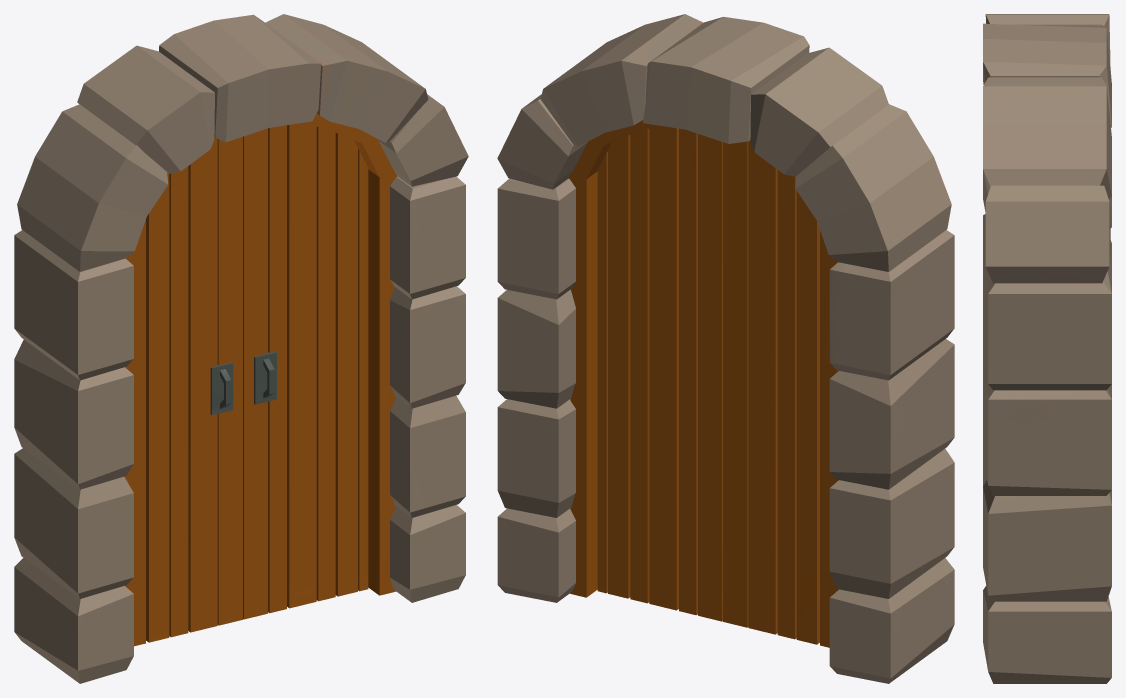
Rendered from kit-wooden-door.glb.
3 views of the same model, side by side, from view 1: azimuth 30°, elevation 25°; view 2: azimuth 150°, elevation 25°; view 3: azimuth 270°, elevation 25° (orthographic). The views are drawn at different scales.
Visible parts, largest first — view 1: Cube.361; view 2: Cube.361; view 3: Cube.361.
Part boxes in pixels (<box>): Cube.361: <box>14,14,468,683</box>; Cube.361: <box>497,14,954,683</box>; Cube.361: <box>983,14,1111,683</box>.
Size of the model in its own units: 1.42 by 1.98 by 0.4164.
Materials: 1 (1 with a texture image).
